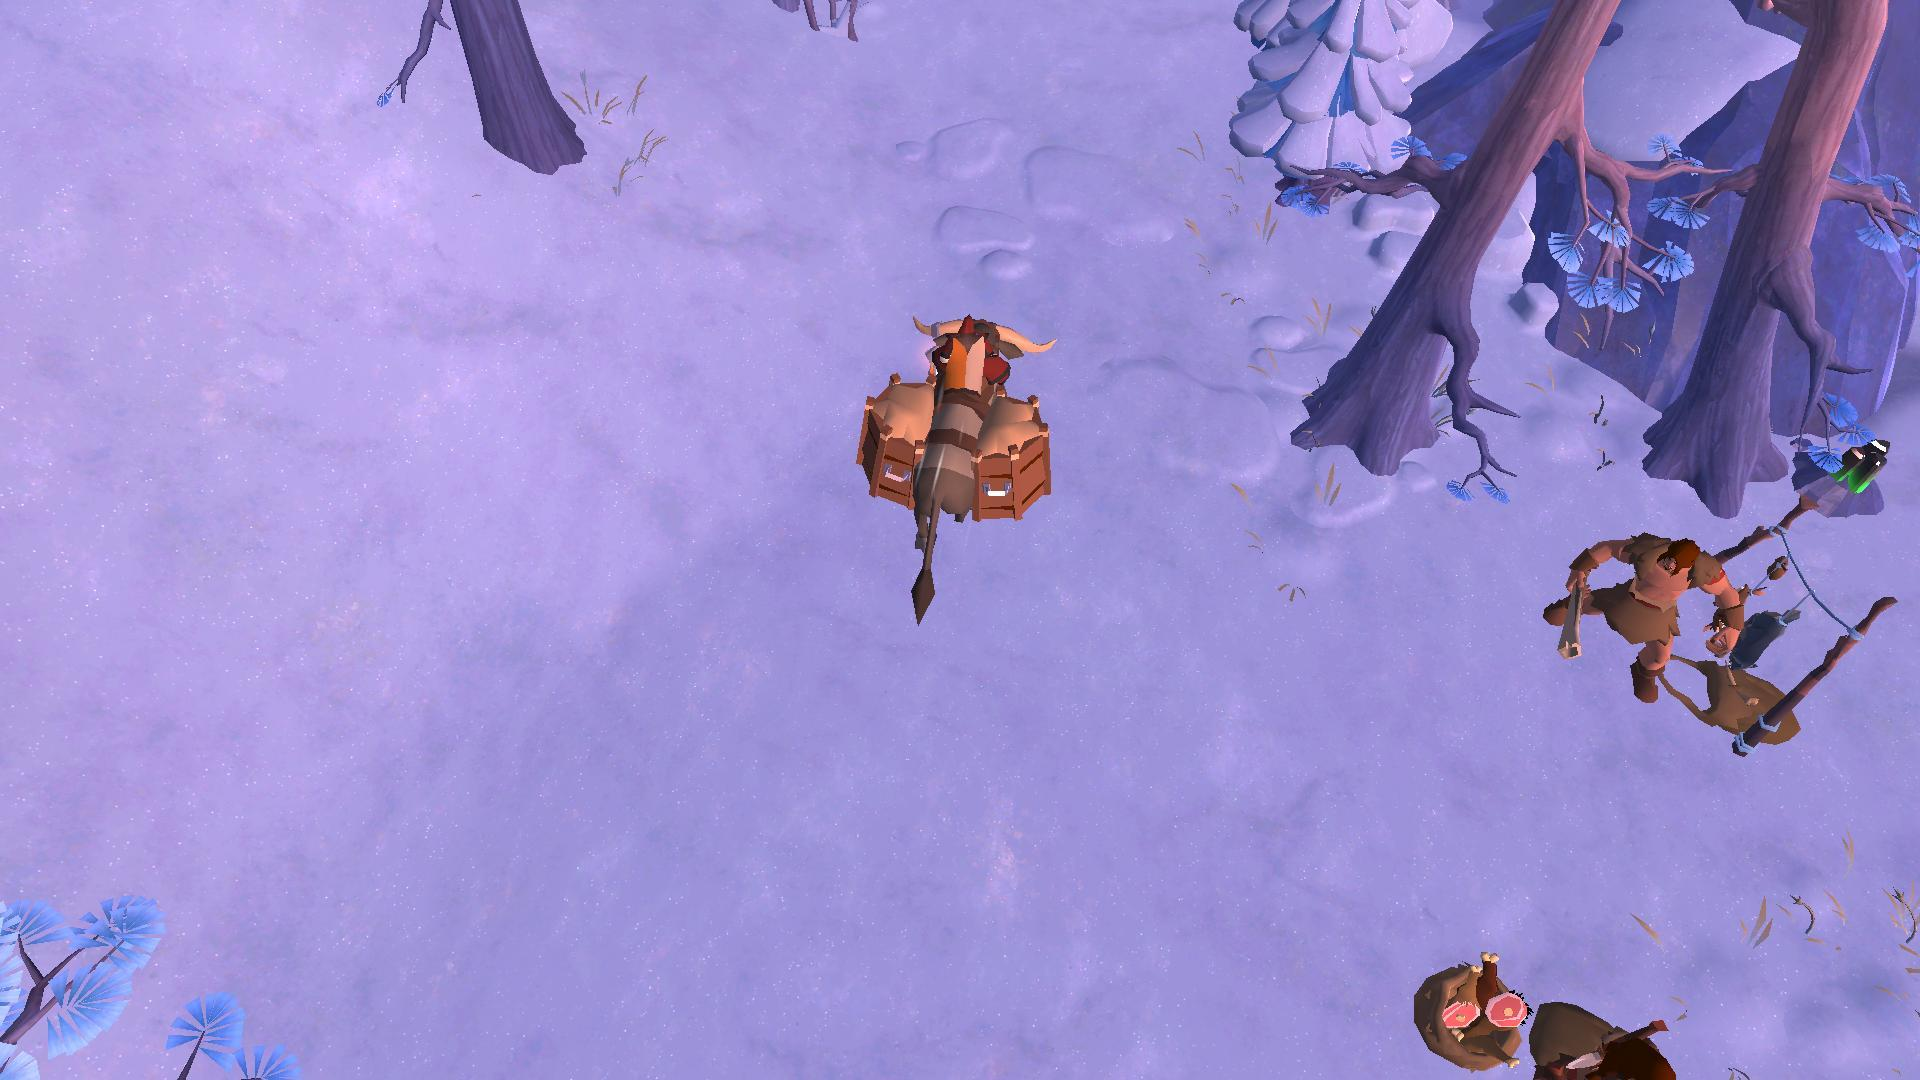enemy_factionKeeper: (1559, 521, 1733, 707)
ore_t3: (1836, 430, 1892, 495)
